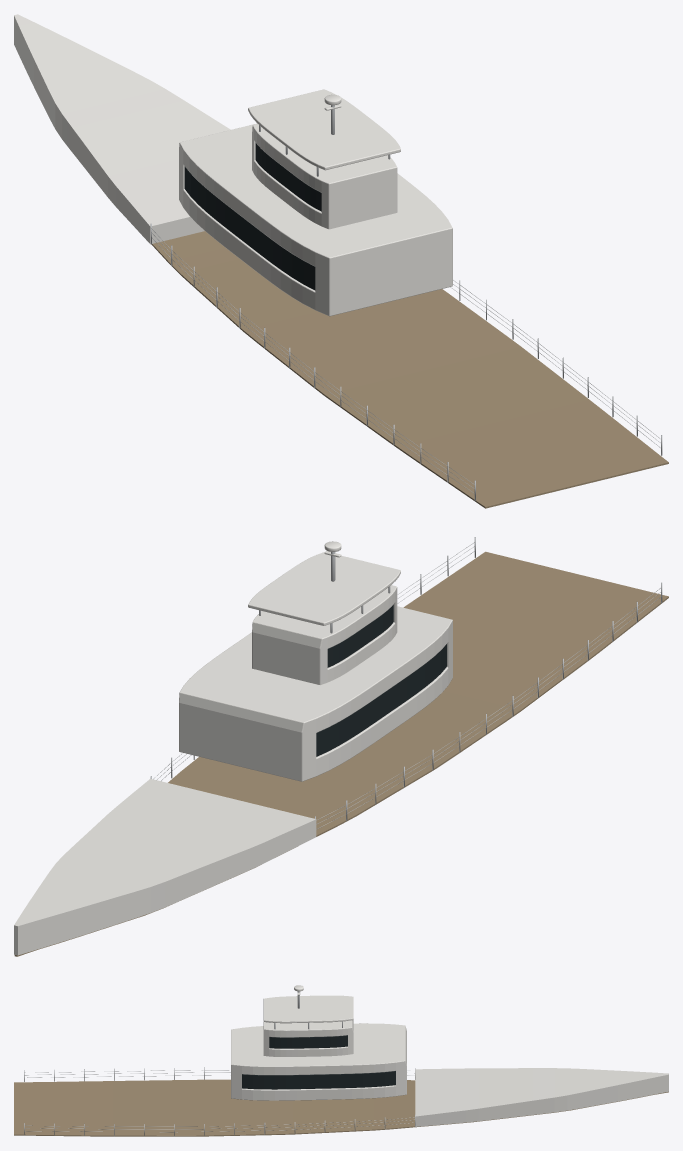
Rendered from sovrastruttura.glb.
The picture shows the model from 3 angles, top to bottom: view 1: azimuth 30°, elevation 25°; view 2: azimuth 150°, elevation 25°; view 3: azimuth 270°, elevation 25°; orthographic projection. The views are drawn at different scales.
Parts seen in each view (by area): view 1: COPERTA_MESH, SOVRASTRUTTURA_MESH; view 2: COPERTA_MESH, SOVRASTRUTTURA_MESH; view 3: COPERTA_MESH, SOVRASTRUTTURA_MESH.
Part boxes in pixels (<box>): COPERTA_MESH: <box>14,14,668,508</box>; SOVRASTRUTTURA_MESH: <box>179,89,452,316</box>; COPERTA_MESH: <box>14,537,668,956</box>; SOVRASTRUTTURA_MESH: <box>179,541,452,781</box>; COPERTA_MESH: <box>14,1067,668,1136</box>; SOVRASTRUTTURA_MESH: <box>231,985,406,1100</box>.
Size of the model in its own units: 8.2 by 8.24 by 40.
